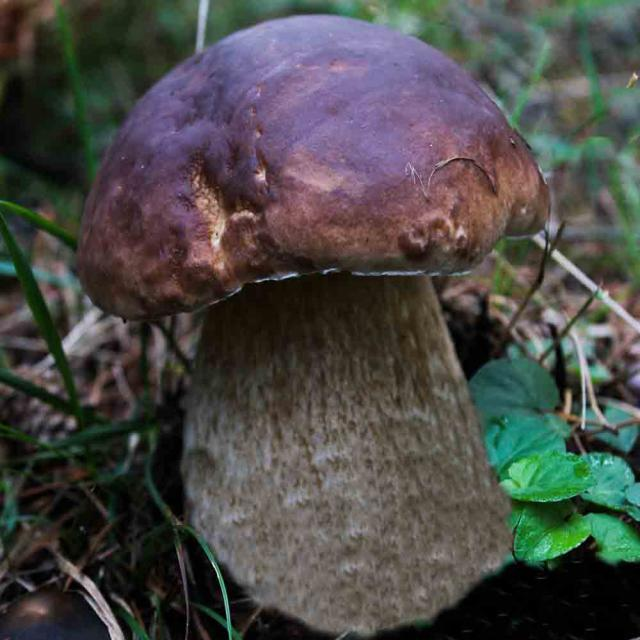Boletus: (80, 13, 547, 633)
